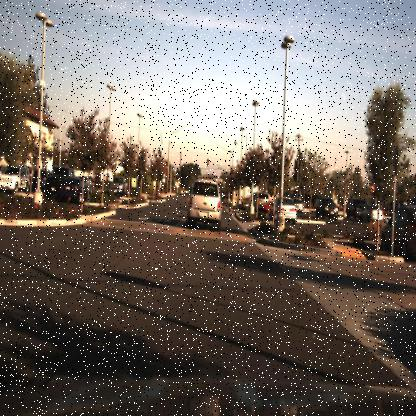car: (181, 172, 226, 242), (376, 203, 414, 263), (378, 205, 415, 262), (52, 173, 89, 209), (0, 160, 34, 195), (268, 192, 298, 226), (314, 192, 340, 222), (44, 161, 64, 198), (106, 172, 131, 198), (31, 164, 49, 198), (317, 197, 340, 222), (68, 177, 90, 203), (345, 197, 367, 223), (108, 176, 129, 200), (251, 190, 272, 210), (293, 194, 309, 215), (366, 204, 384, 222)
trafficLight-Red: (174, 168, 179, 178)
trafficLight-Yellow: (206, 157, 210, 169)
